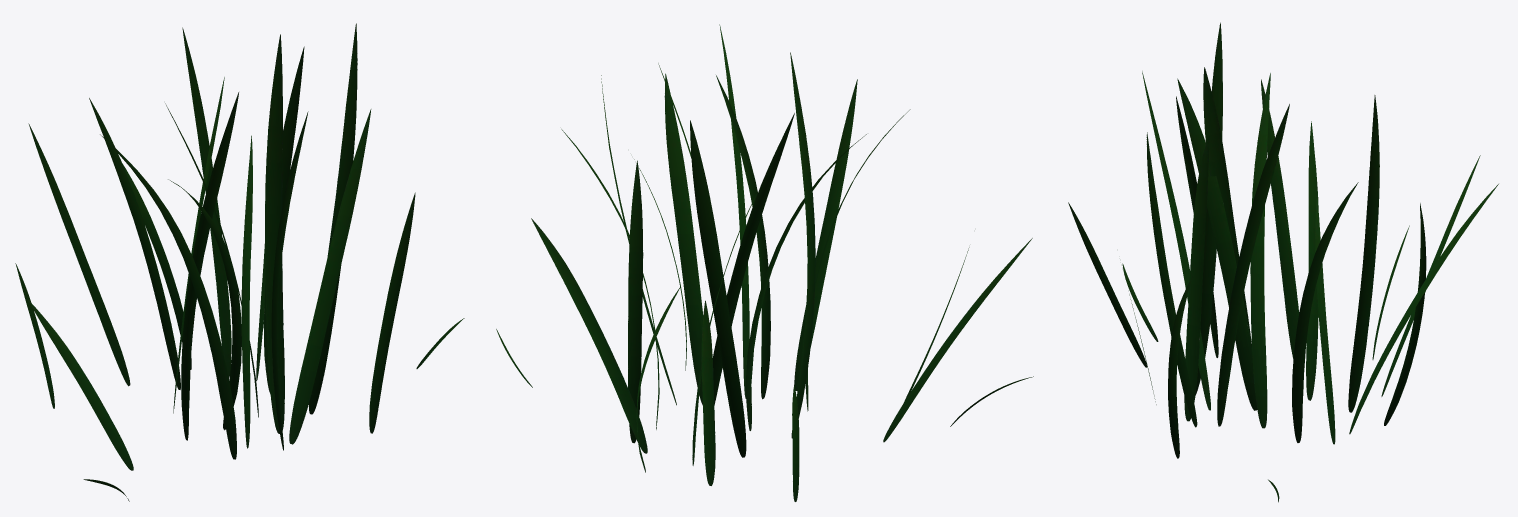
The picture shows the model from 3 angles, left to right: view 1: azimuth 30°, elevation 25°; view 2: azimuth 150°, elevation 25°; view 3: azimuth 270°, elevation 25°; orthographic projection. The views are drawn at different scales.
Visible parts, largest first — view 1: SM_UmbS_Bullrush_04_LOD0; view 2: SM_UmbS_Bullrush_04_LOD0; view 3: SM_UmbS_Bullrush_04_LOD0.
Boxes of the visible parts, x1,y1,x2,y2 form: SM_UmbS_Bullrush_04_LOD0: (15,23,464,501); SM_UmbS_Bullrush_04_LOD0: (496,24,1033,501); SM_UmbS_Bullrush_04_LOD0: (1068,22,1498,502).
Size of the model in its own units: 1.11 by 0.8143 by 0.9159.
1 material, 1 textured.
